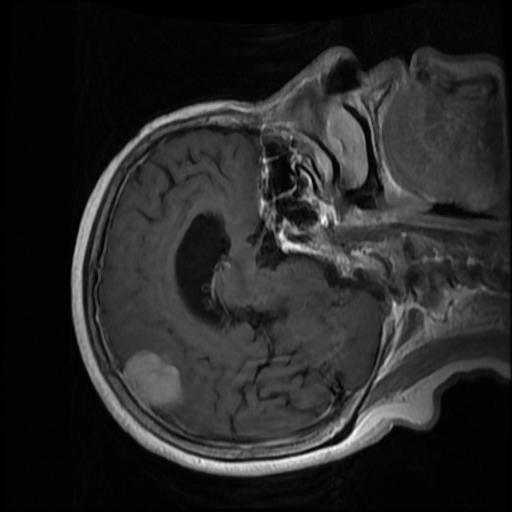meningioma: (123, 349, 182, 410)
